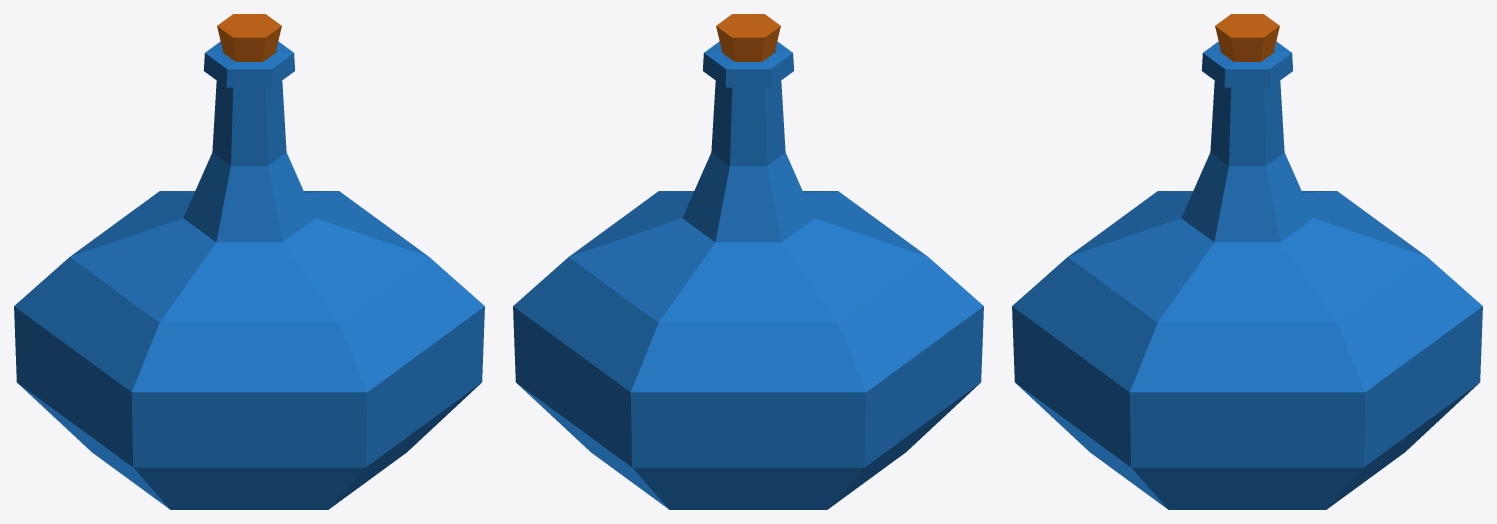
File: bottle-alchemy-a.fbx
3 renders of one model, left to right at view 1: azimuth 30°, elevation 25°; view 2: azimuth 150°, elevation 25°; view 3: azimuth 270°, elevation 25°, orthographic.
Visible parts, largest first — view 1: bottle-alchemy-a; view 2: bottle-alchemy-a; view 3: bottle-alchemy-a.
Boxes of the visible parts, x1,y1,x2,y2 form: bottle-alchemy-a: [14, 14, 484, 509]; bottle-alchemy-a: [513, 14, 983, 509]; bottle-alchemy-a: [1012, 14, 1482, 509].
Size of the model in its own units: 192 by 222 by 222.
